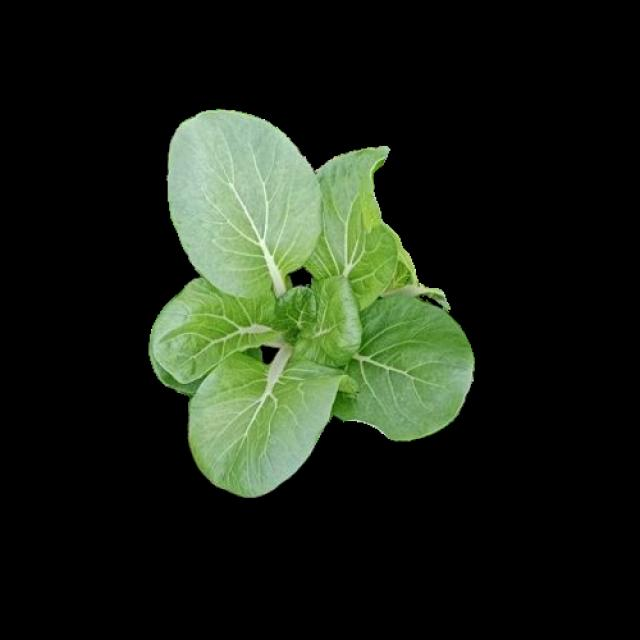healthy: (151, 112, 477, 496)
mature: (154, 114, 476, 499)
